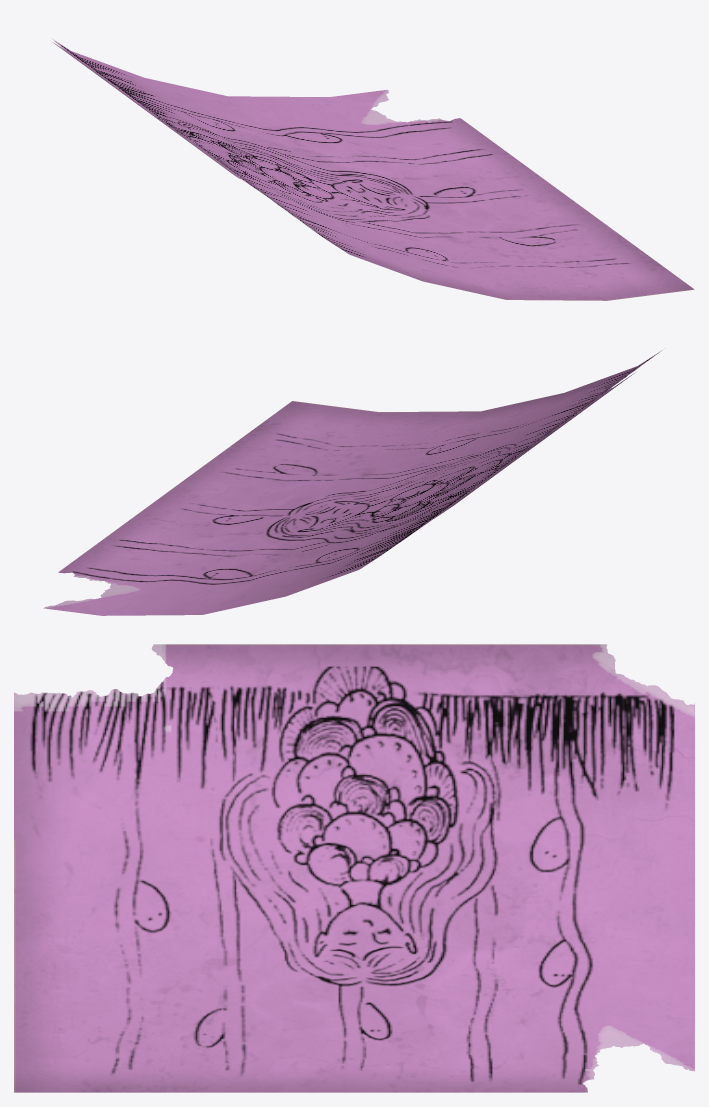
Rendered from SM_PostItNote_02.fbx.
The picture shows the model from 3 angles, top to bottom: view 1: azimuth 30°, elevation 25°; view 2: azimuth 150°, elevation 25°; view 3: azimuth 270°, elevation 25°; orthographic projection. The views are drawn at different scales.
Visible parts, largest first — view 1: SM_PostItNote_02_LOD0; view 2: SM_PostItNote_02_LOD0; view 3: SM_PostItNote_02_LOD0.
Boxes of the visible parts, x1,y1,x2,y2 form: SM_PostItNote_02_LOD0: (51, 38, 694, 300); SM_PostItNote_02_LOD0: (43, 350, 662, 615); SM_PostItNote_02_LOD0: (14, 644, 694, 1092).
Bounding box in the file's own units: 10.54 × 12.61 × 4.25.
1 material, 1 textured.
